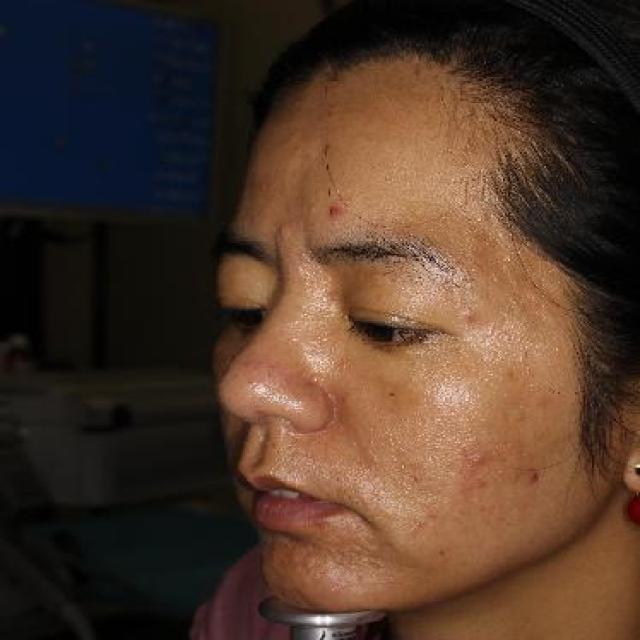papules: (320, 189, 356, 223), (457, 299, 491, 326), (464, 442, 486, 471), (417, 505, 445, 523), (517, 470, 544, 488)
